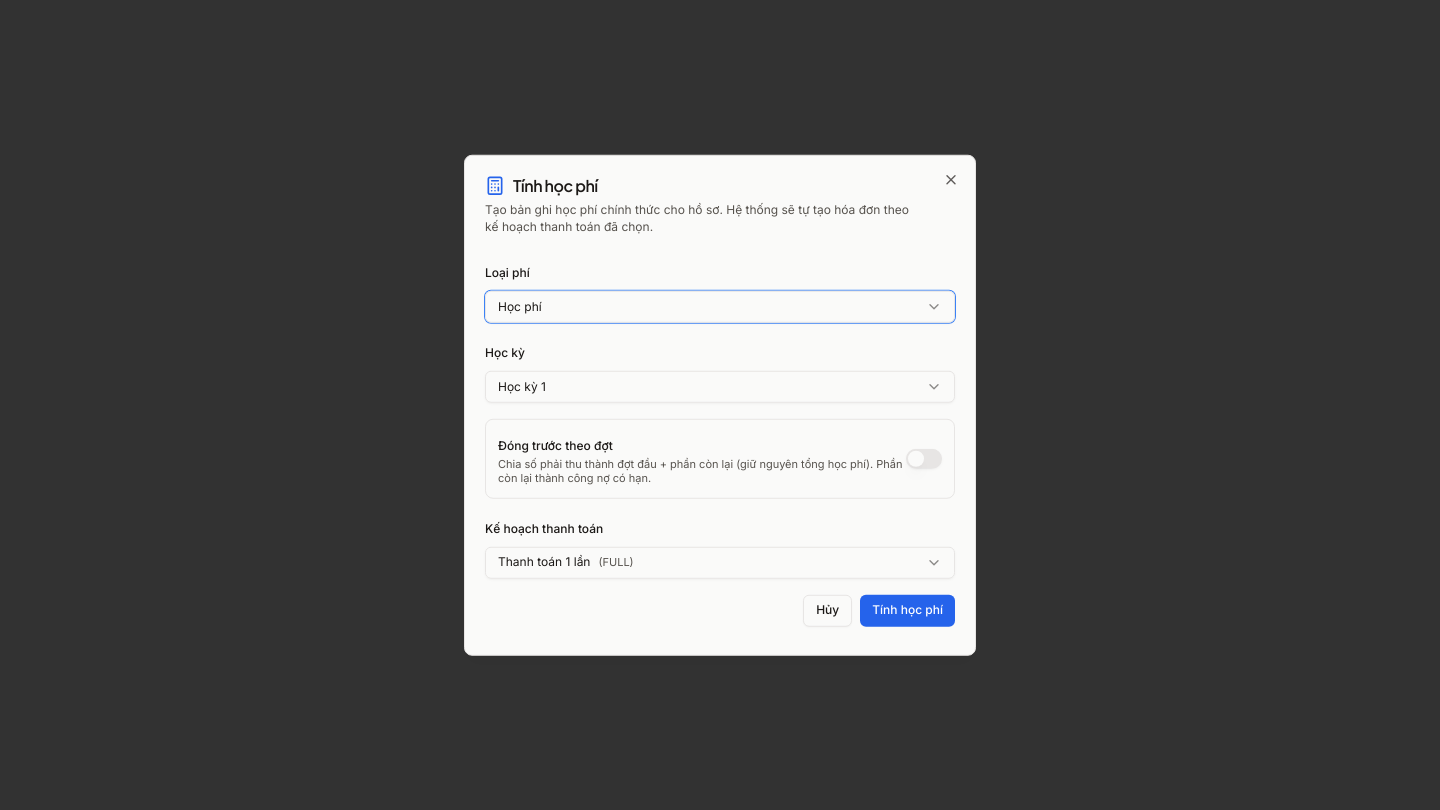
Scenario: CalculateFeeDialog › submit is blocked until down-payment + both due dates are present
The image size is (1440, 810).
Step 1. Click the switch named "đóng trước theo đợt" → (924, 458), box top-left (906, 448), bottom-right (942, 468)
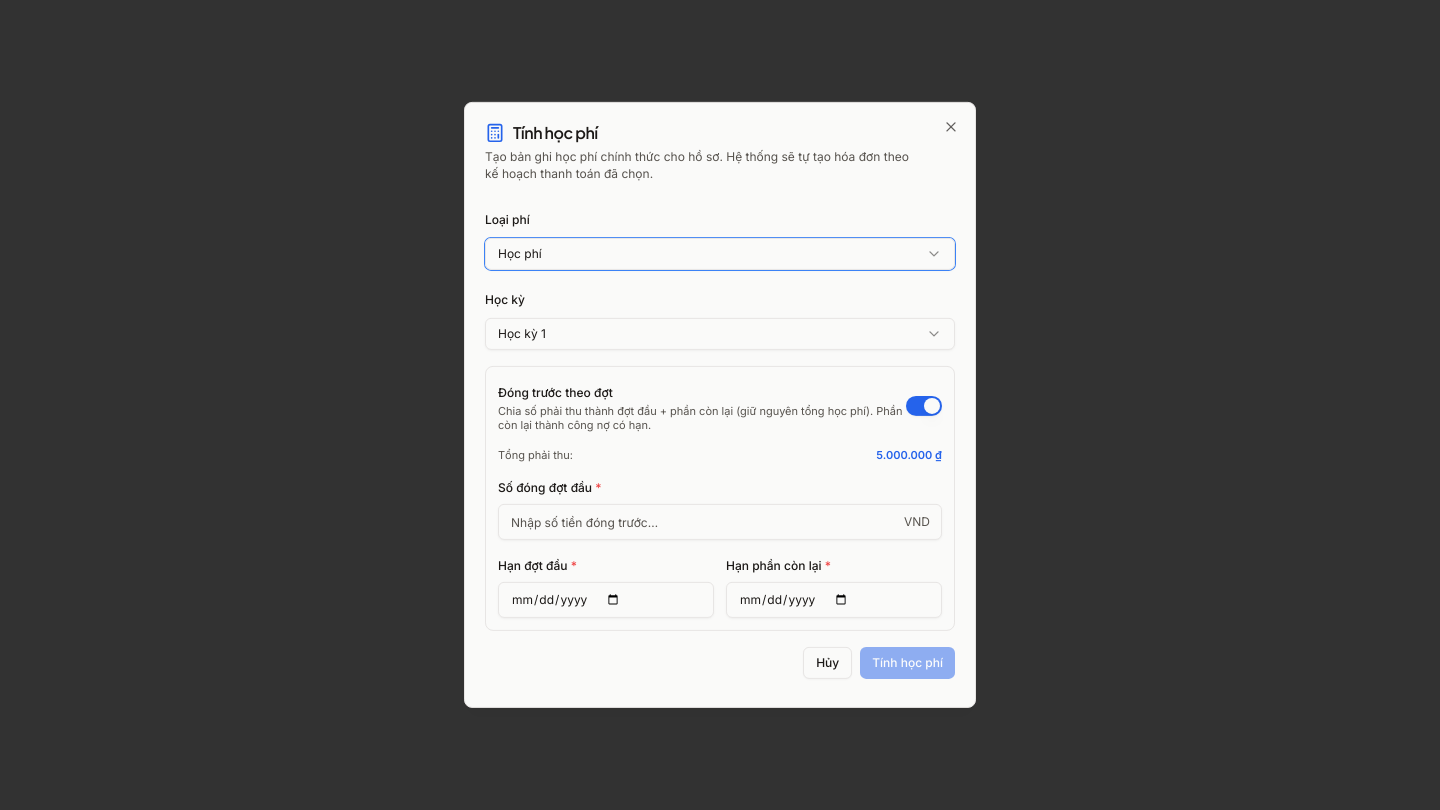
Result: the button "Tính học phí" is disabled at top-left (860, 647), bottom-right (955, 679)
Step 2. Type "2000000" into the field labelled "Số đóng đợt đầu *" → (720, 522), box top-left (498, 504), bottom-right (942, 540)
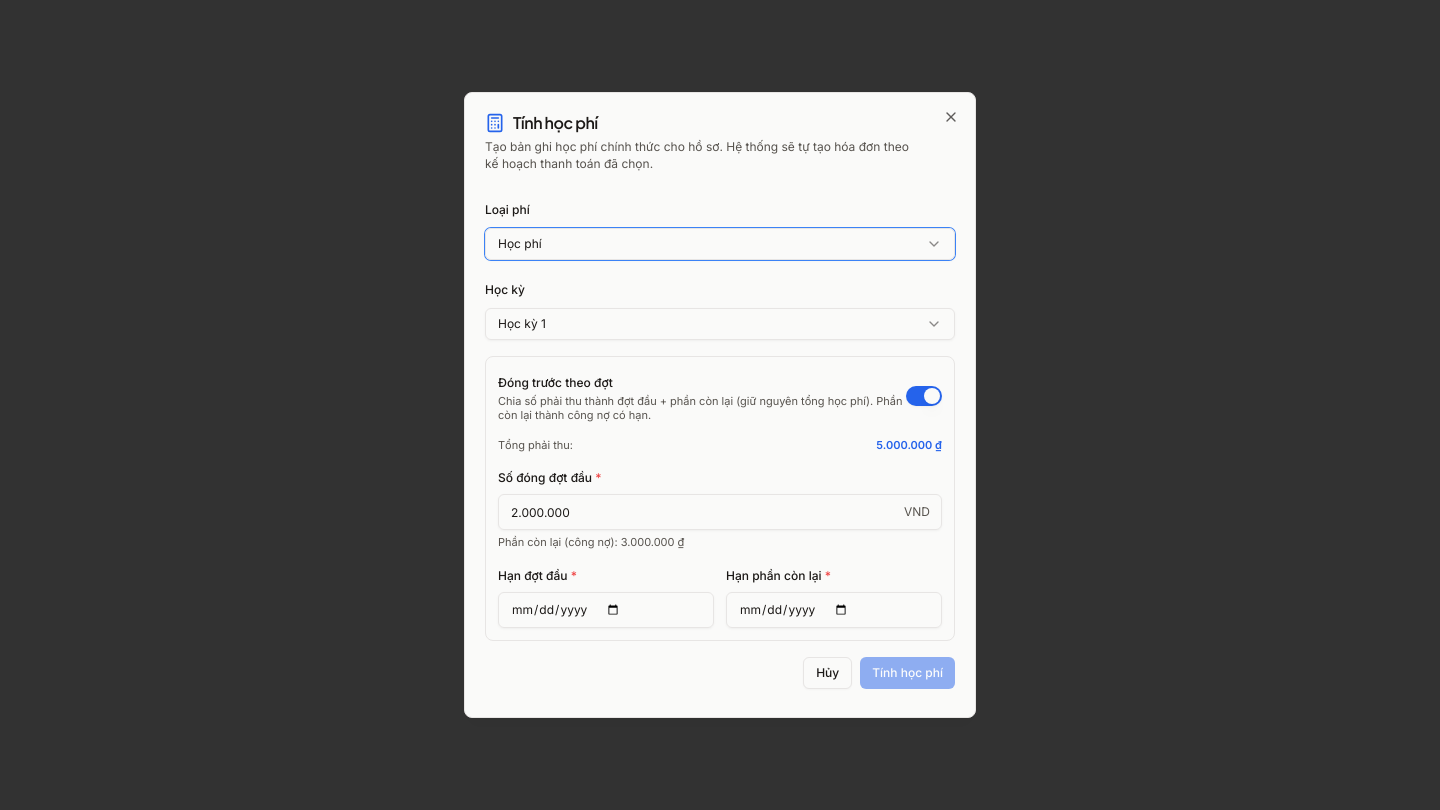
Result: the button "Tính học phí" is disabled at top-left (860, 657), bottom-right (955, 689)
Step 3. Type "2026-09-01" into the date field labelled "Hạn đợt đầu *" → (606, 610), box top-left (498, 592), bottom-right (714, 628)
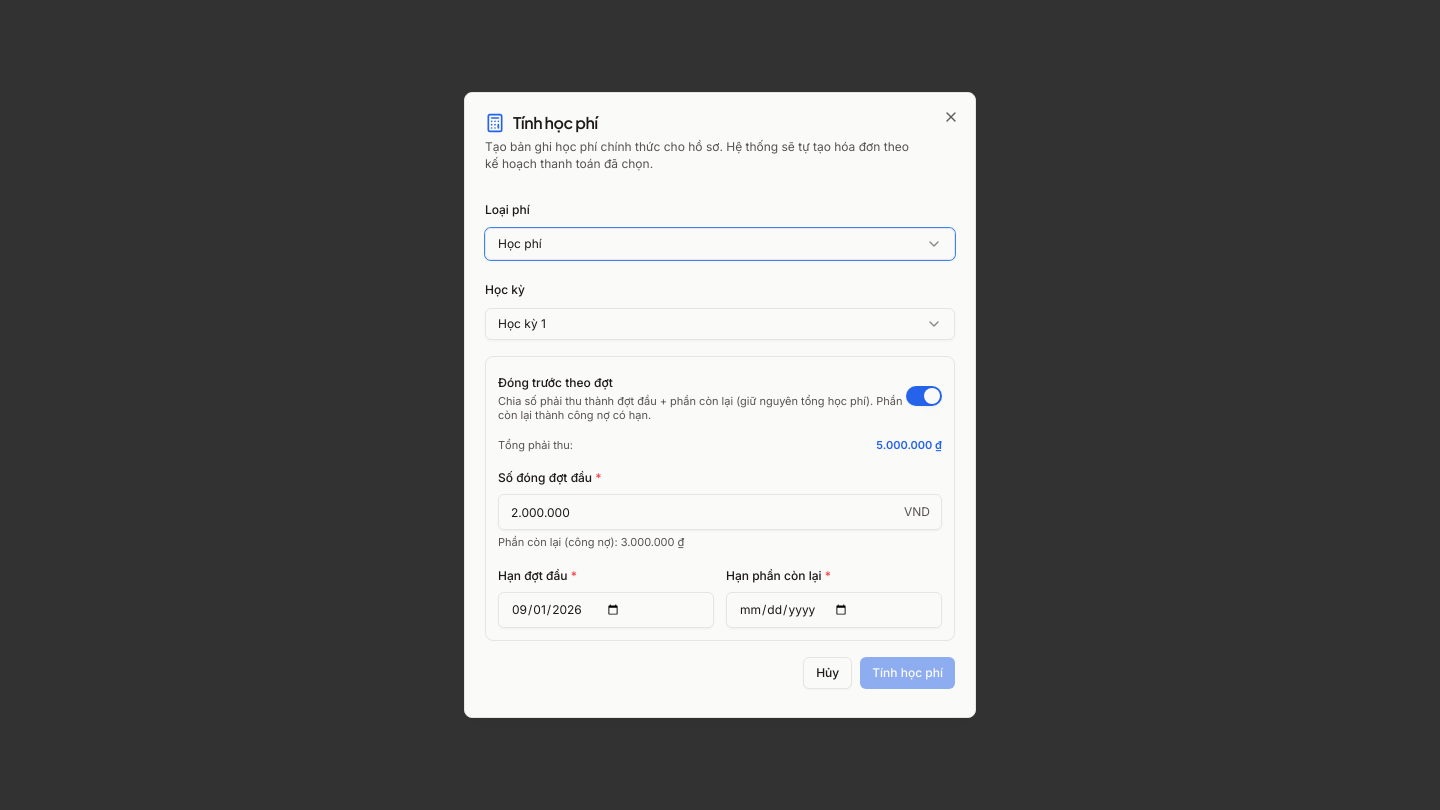
Step 4. Type "2026-11-01" into the date field labelled "Hạn phần còn lại *" → (834, 610), box top-left (726, 592), bottom-right (942, 628)
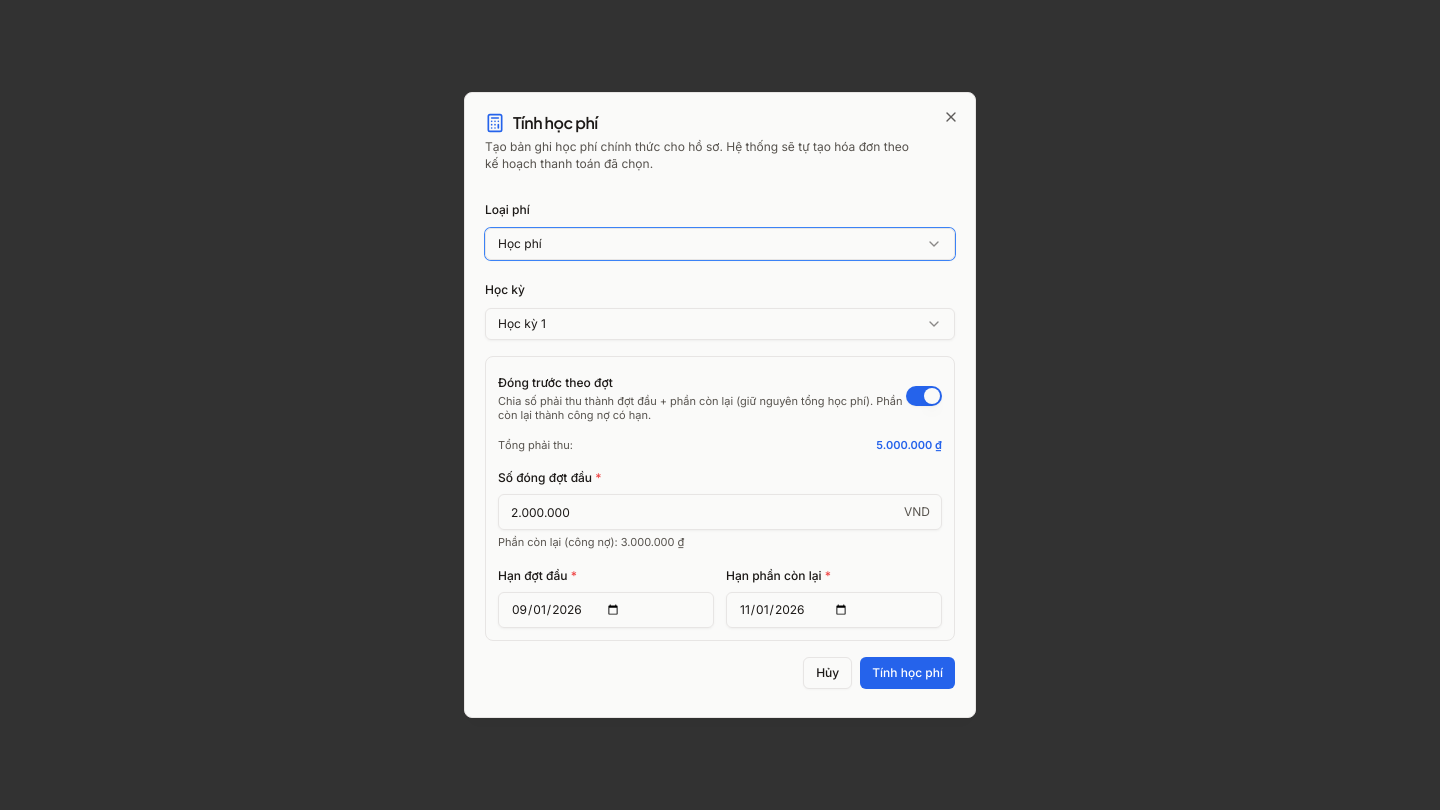
Result: the button "Tính học phí" is enabled at top-left (860, 657), bottom-right (955, 689)
